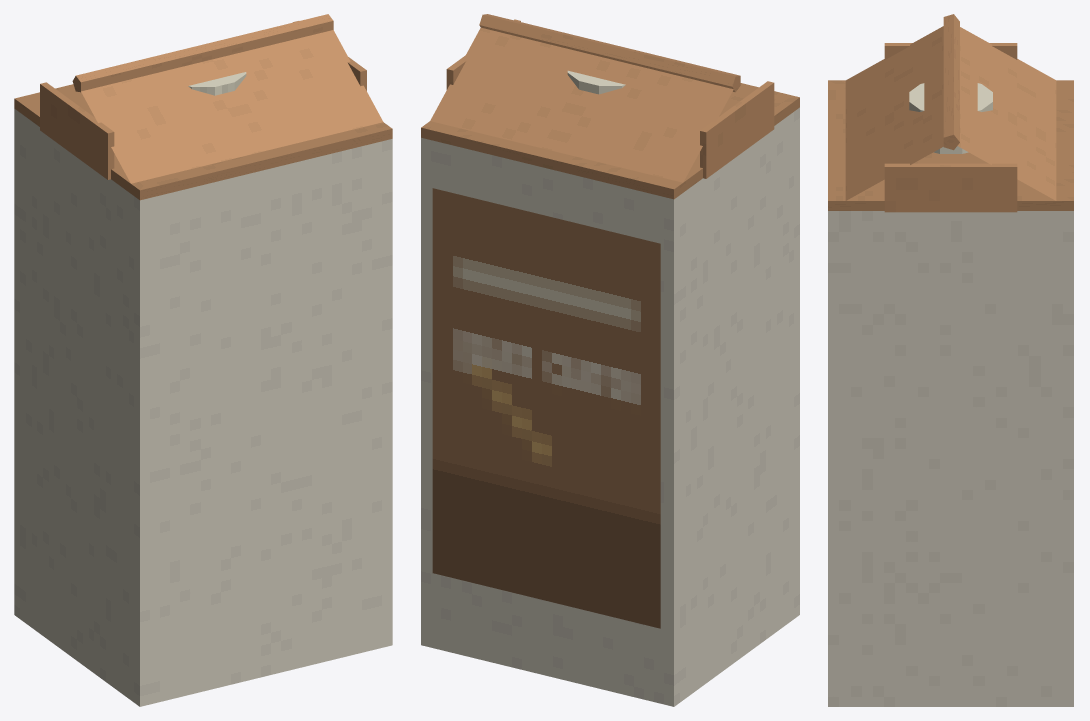
Rendered from carton_946ml.glb.
3 renders of one model, left to right at view 1: azimuth 30°, elevation 25°; view 2: azimuth 150°, elevation 25°; view 3: azimuth 270°, elevation 25°, orthographic. The views are drawn at different scales.
Visible parts, largest first — view 1: block_creased carton, block_paper fold 1, block_sealed top, block_clipped seam 0, block_roof end -1, block_threaded cap; view 2: block_creased carton, block_front panel, block_paper fold -1, block_sealed top, block_clipped seam 0, block_roof end -1, block_threaded cap; view 3: block_creased carton, block_paper fold 1, block_paper fold -1, block_sealed top, block_roof end 1, block_clipped seam 0, block_threaded cap, block_roof end -1.
Part boxes in pixels (bbox=[...]): block_creased carton: bbox=[14, 109, 392, 706]; block_paper fold 1: bbox=[81, 30, 383, 183]; block_sealed top: bbox=[14, 84, 392, 200]; block_clipped seam 0: bbox=[72, 14, 333, 92]; block_roof end -1: bbox=[40, 82, 114, 179]; block_threaded cap: bbox=[188, 72, 246, 95]; block_creased carton: bbox=[421, 107, 799, 706]; block_front panel: bbox=[432, 188, 660, 628]; block_paper fold -1: bbox=[430, 27, 733, 182]; block_sealed top: bbox=[421, 83, 799, 199]; block_clipped seam 0: bbox=[479, 14, 740, 92]; block_roof end -1: bbox=[700, 81, 774, 178]; block_threaded cap: bbox=[567, 70, 625, 94]; block_creased carton: bbox=[828, 211, 1073, 706]; block_paper fold 1: bbox=[845, 26, 943, 200]; block_paper fold -1: bbox=[957, 27, 1056, 200]; block_sealed top: bbox=[828, 80, 1073, 210]; block_roof end 1: bbox=[884, 163, 1017, 212]; block_clipped seam 0: bbox=[943, 14, 959, 150]; block_threaded cap: bbox=[909, 83, 992, 153]; block_roof end -1: bbox=[884, 43, 1017, 59].
Size of the model in its own units: 0.0881 by 0.19 by 0.0745.
1 material, 1 textured.
